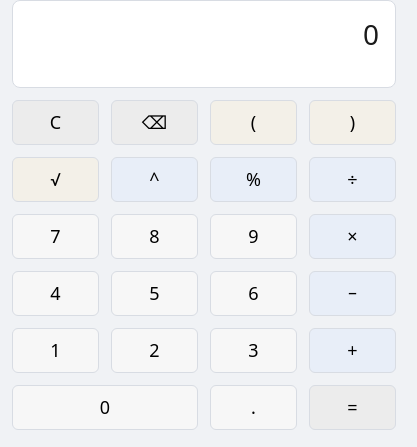
Calculator › stores * when clicking multiplication even though the label is ×
Click the button "3".
click(254, 350)  # box [210,328,297,373]
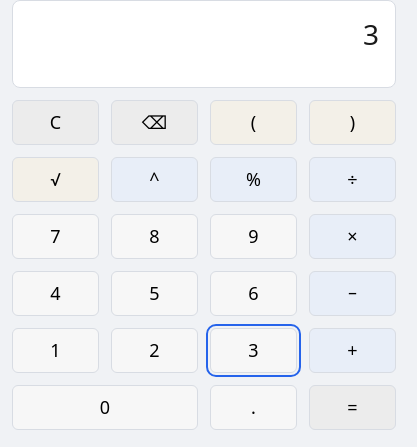
Click the button named "multiply".
click(352, 236)  # box [309,214,396,259]
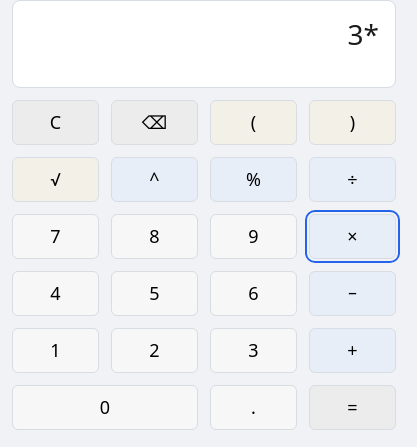
Click the button "4".
click(56, 294)  # box [12,271,99,316]
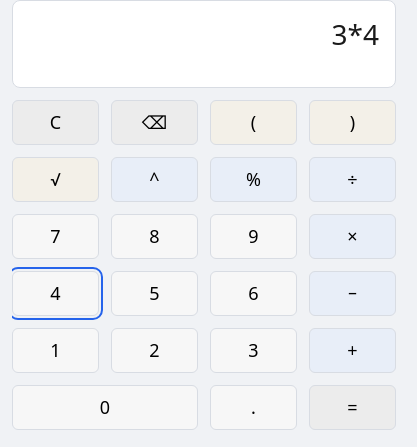
Expected: the text named "Display" reads "3*4", [332,15,379,53]
